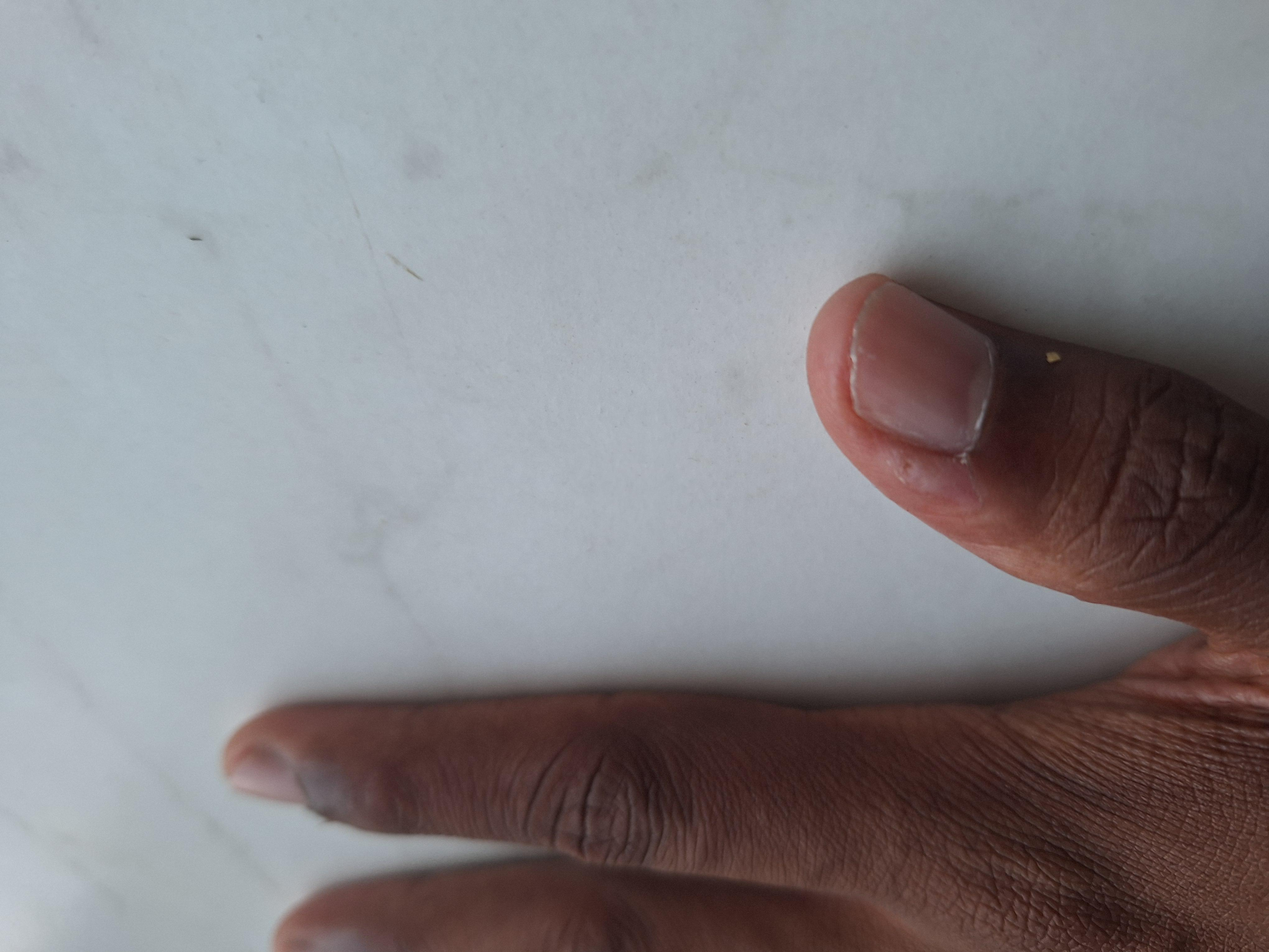Fingernail: (852, 280, 994, 453), (232, 751, 301, 806)
